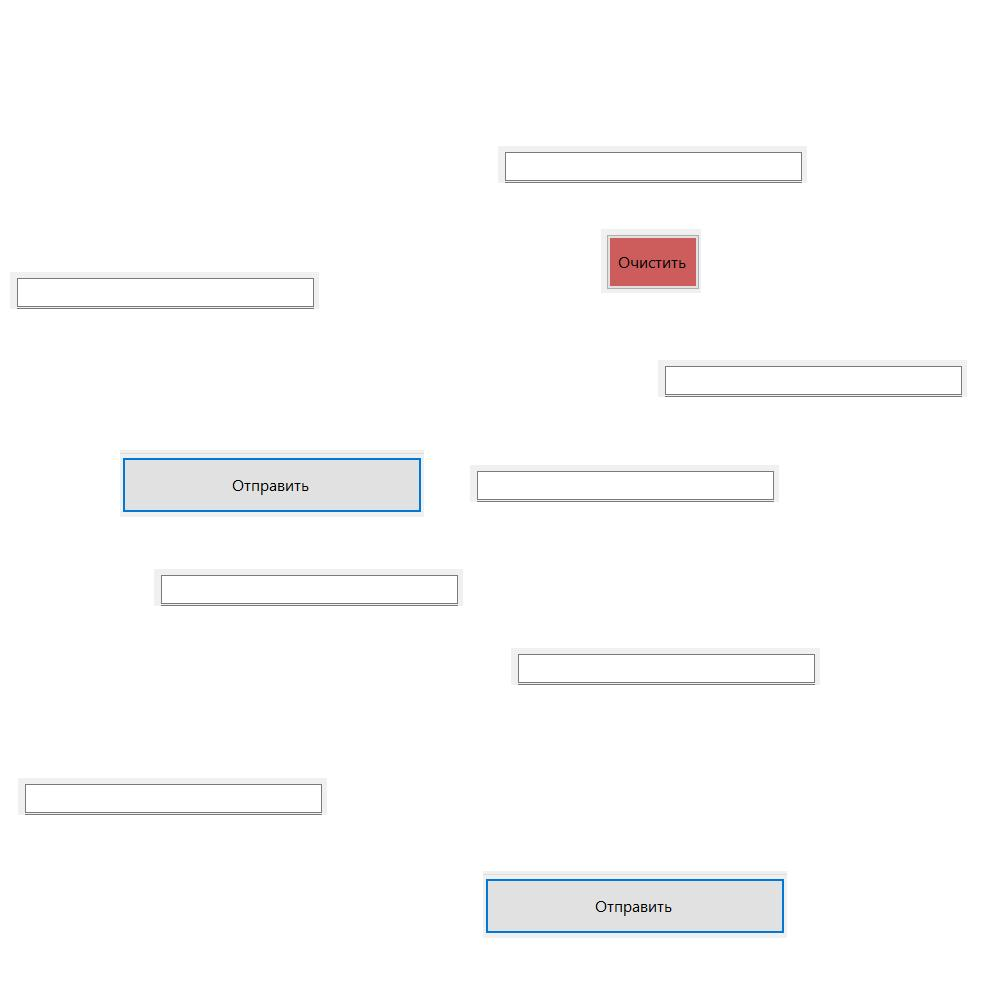Button: (483, 871, 787, 938), (120, 450, 424, 517), (601, 229, 701, 293)
EditText-: (10, 272, 319, 309), (154, 569, 463, 606), (498, 146, 807, 183), (658, 360, 967, 397), (470, 465, 779, 502), (18, 778, 327, 815), (511, 648, 820, 685)
